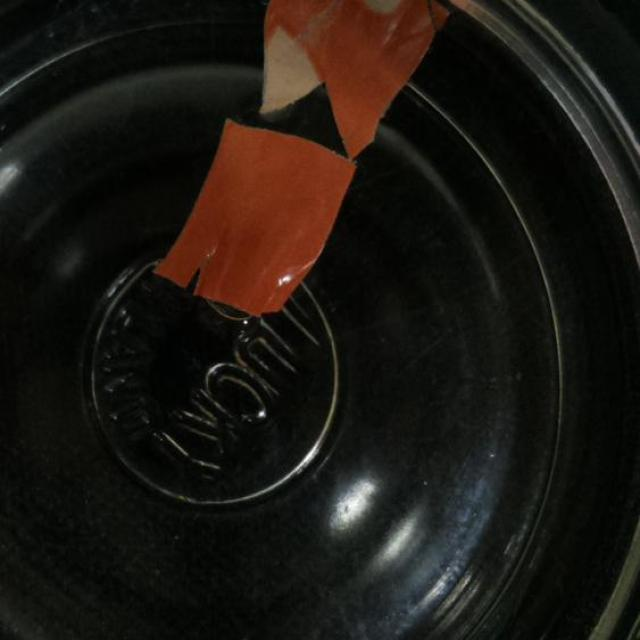fiber: (154, 114, 360, 320), (260, 0, 460, 149)
